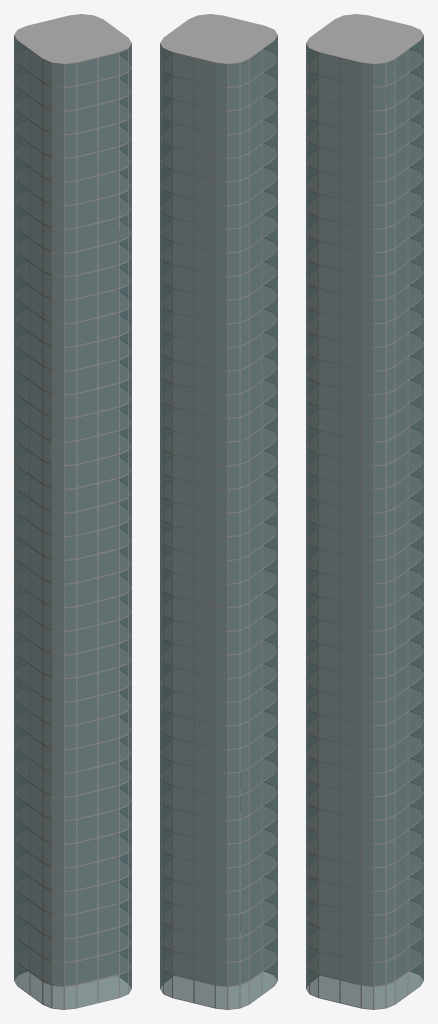
The model's file is CollapseBuild.fbx.
3 renders of one model, left to right at view 1: azimuth 30°, elevation 25°; view 2: azimuth 150°, elevation 25°; view 3: azimuth 330°, elevation 25°, orthographic.
Visible parts, largest first — view 1: shard153, shard42, shard100, shard162, shard53, shard62, shard27, shard113, shard92, shard192, shard178, shard119 (+132 smaller); view 2: shard120, shard41, shard197, shard12, shard17, shard37, shard140, shard72, shard152, shard34, shard68, shard202 (+129 smaller); view 3: shard86, shard153, shard162, shard113, shard173, shard192, shard178, shard81, shard20, shard53, shard141, shard28 (+129 smaller).
Part boxes in pixels (box(x1,y1,x2,y2)): shard153: box(17, 273, 131, 323); shard42: box(17, 791, 131, 844); shard100: box(17, 531, 107, 584); shard162: box(51, 219, 131, 276); shard53: box(15, 740, 112, 796); shard62: box(17, 699, 97, 749); shard27: box(15, 858, 131, 915); shard113: box(17, 456, 130, 513); shard92: box(30, 551, 112, 607); shard192: box(29, 74, 130, 133); shard178: box(52, 156, 130, 205); shard119: box(14, 440, 97, 489); shard120: box(160, 432, 249, 489); shard41: box(160, 791, 258, 844); shard197: box(163, 54, 273, 111); shard12: box(160, 932, 277, 980); shard17: box(163, 915, 248, 962); shard37: box(160, 823, 257, 867); shard140: box(163, 347, 248, 394); shard72: box(160, 649, 253, 702); shard152: box(160, 270, 249, 323); shard34: box(173, 838, 250, 891); shard68: box(164, 673, 274, 725); shard202: box(194, 39, 261, 87); shard86: box(310, 574, 423, 631); shard153: box(306, 266, 395, 323); shard162: box(306, 226, 407, 276); shard113: box(309, 459, 422, 513); shard173: box(310, 182, 395, 229); shard192: box(307, 77, 406, 134); shard178: box(307, 158, 393, 205); shard81: box(307, 611, 395, 655); shard20: box(318, 915, 394, 962); shard53: box(306, 739, 420, 789); shard141: box(310, 347, 394, 394); shard28: box(312, 875, 407, 915).
Bounding box in the file's own units: 1.14 × 11.96 × 1.15.
